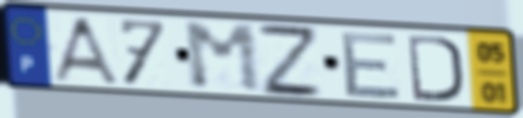7: (116, 17, 168, 88)
A: (47, 14, 123, 87)
D: (404, 32, 466, 105)
E: (339, 30, 405, 101)
M: (180, 21, 266, 95)
Z: (254, 20, 326, 100)
